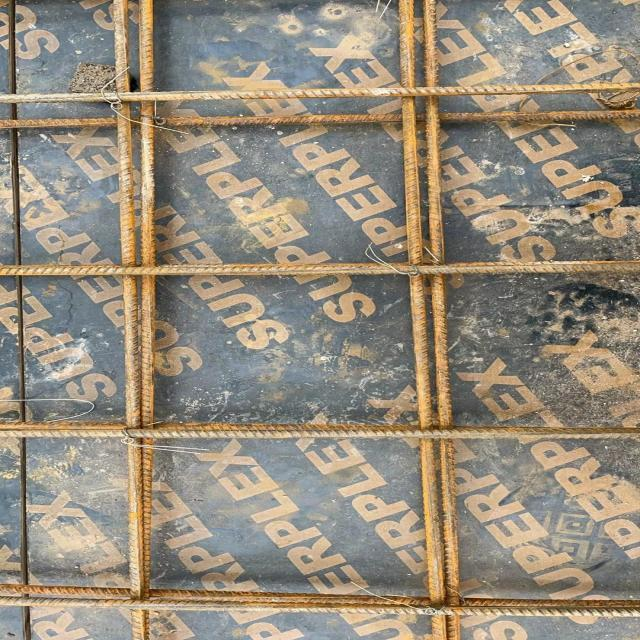ribbed bar: (396, 0, 446, 639), (418, 0, 459, 639), (112, 0, 142, 639), (0, 585, 639, 615), (0, 81, 639, 104), (0, 109, 639, 129), (0, 422, 639, 440), (135, 0, 154, 601), (0, 259, 639, 276)
